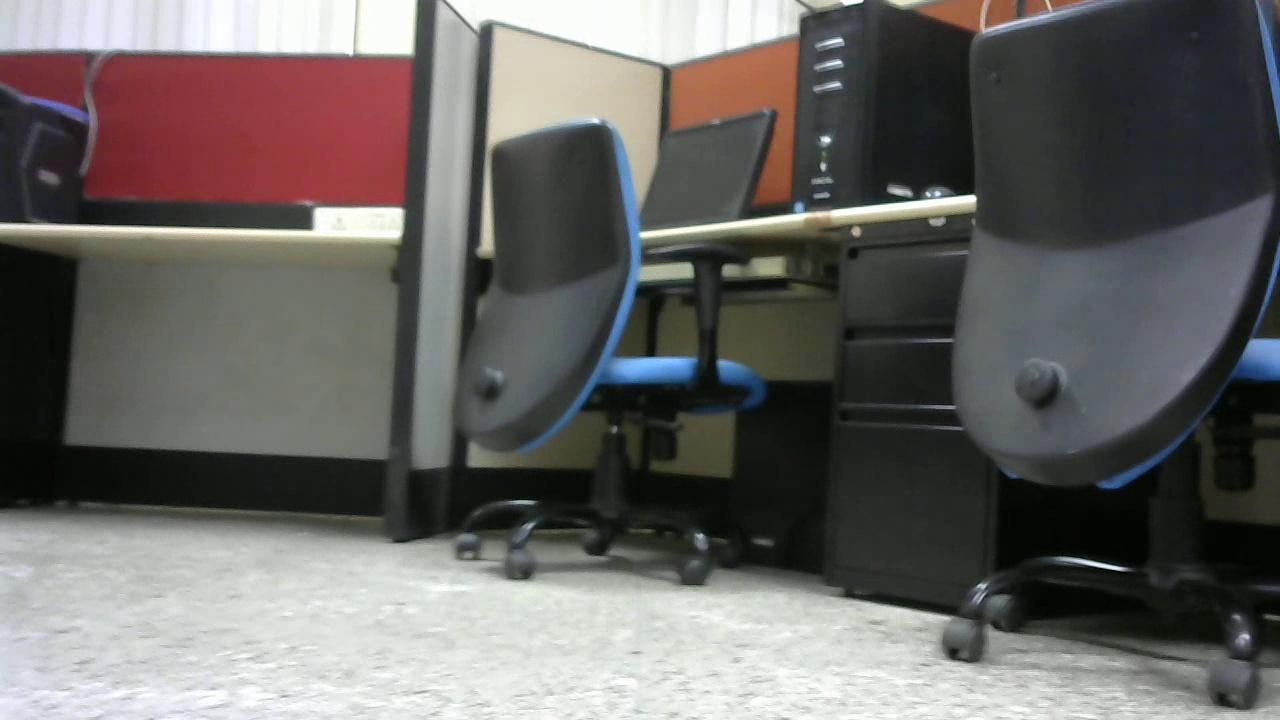chair: (437, 119, 777, 585)
